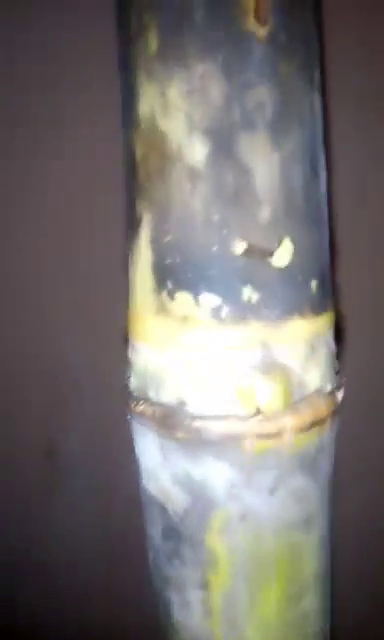cane eye: (246, 364, 300, 420)
